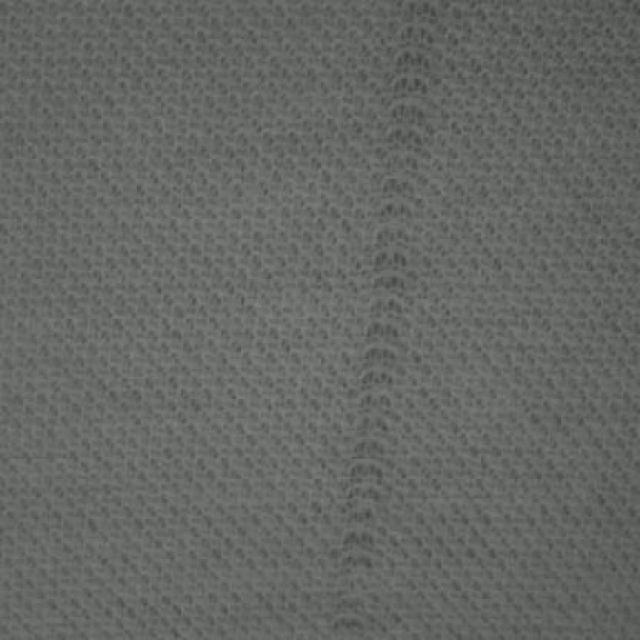Line: (329, 1, 435, 638)
